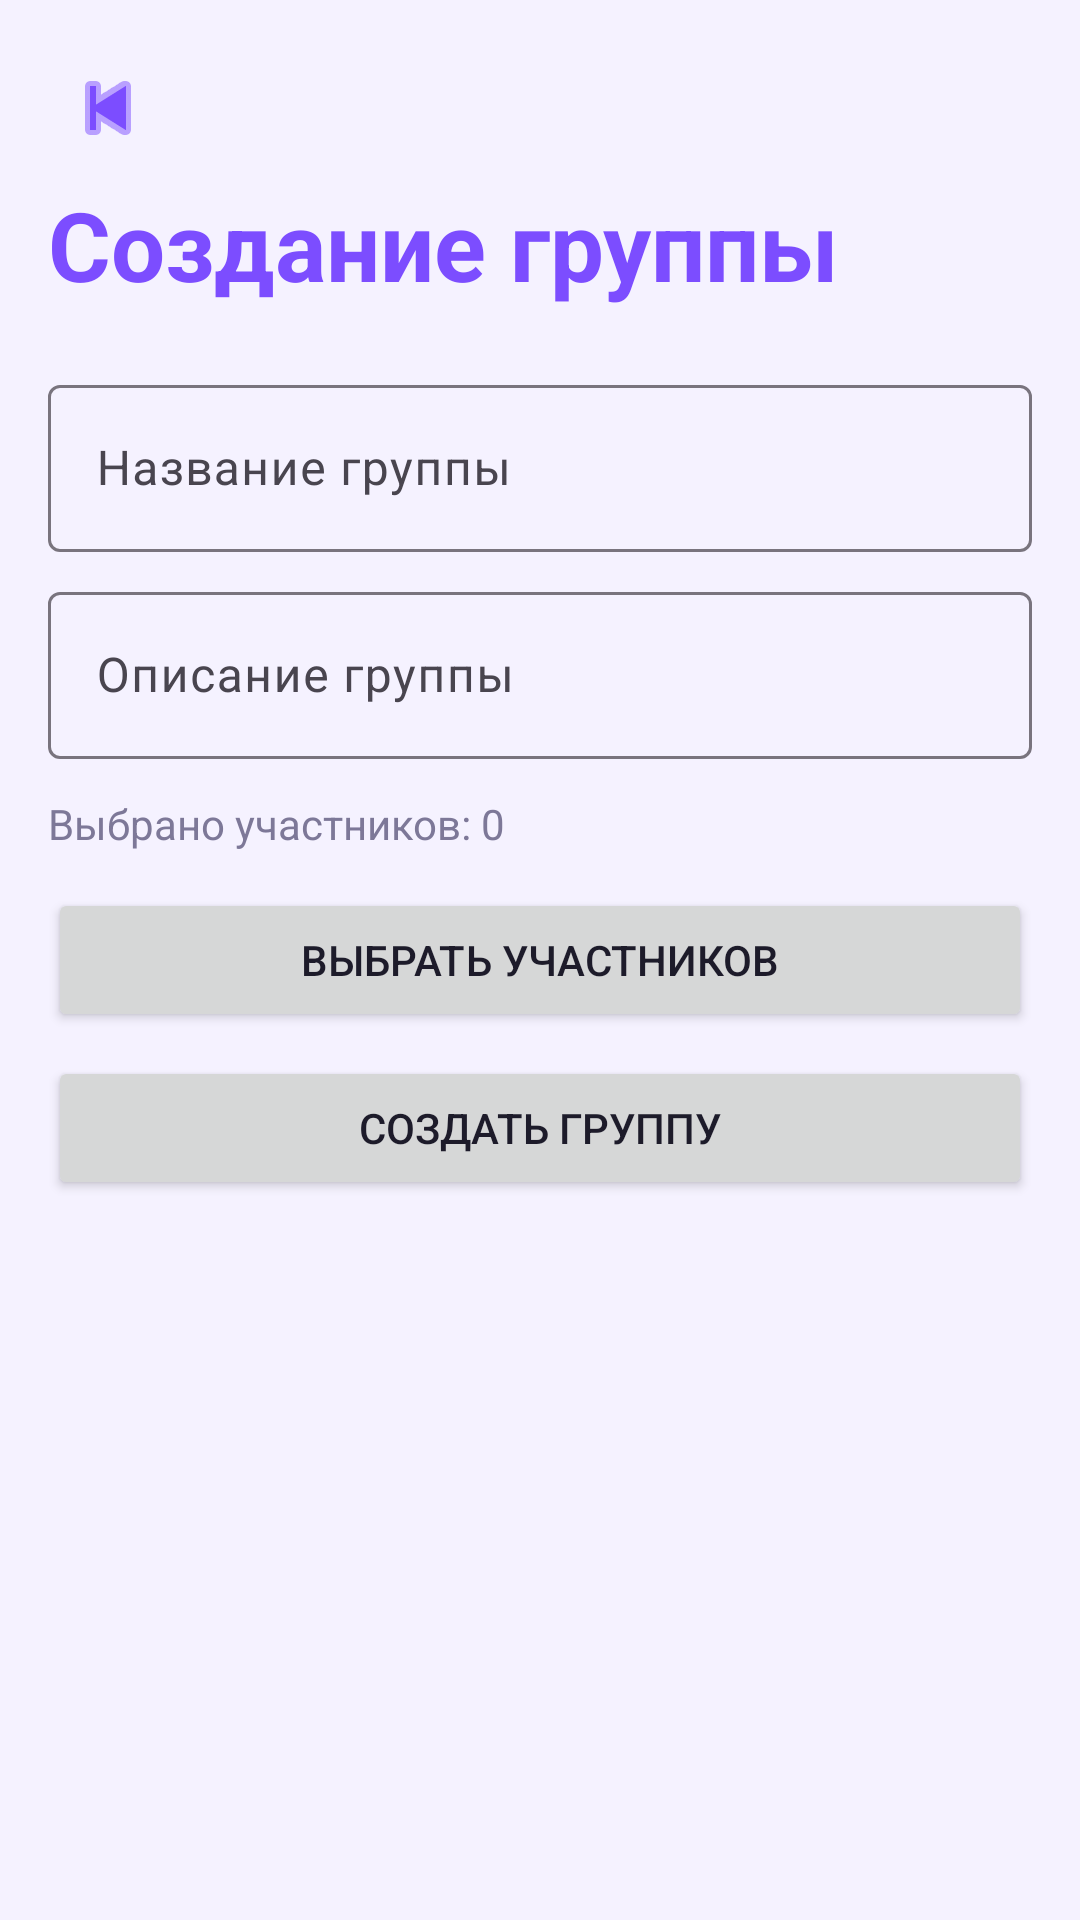

Icon click points for this 1080×1920 phone screenshot, format (x=x, y=y):
Назад: (x=108, y=108)
